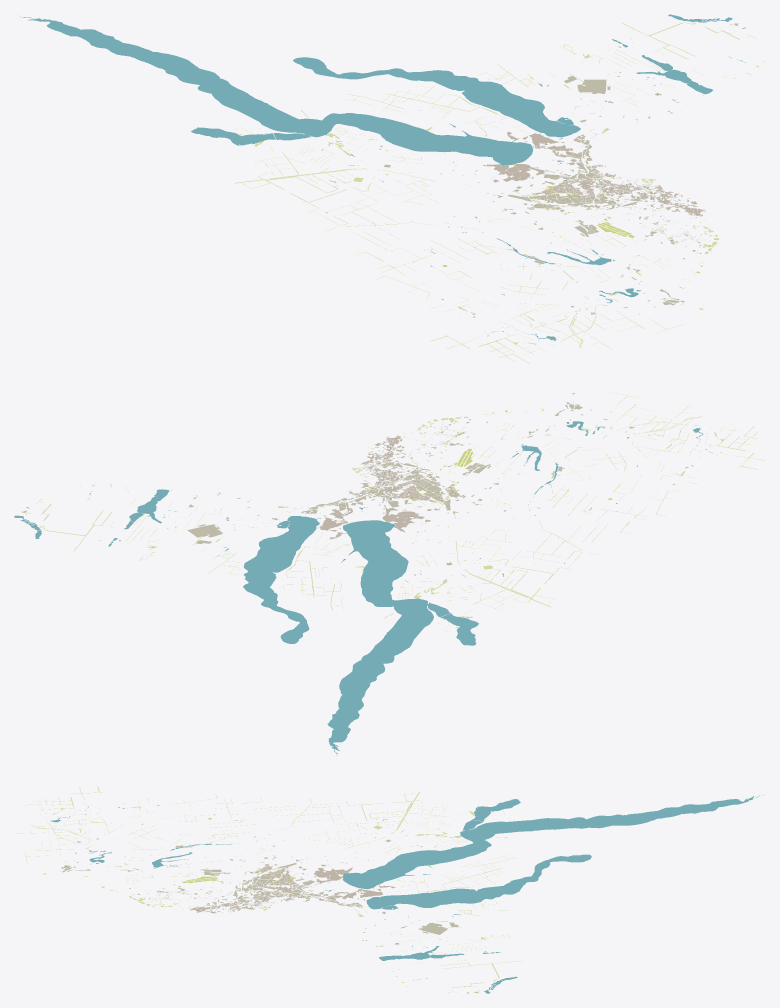
Rendered from TILE_04_00_REST_BATCH_07.glb.
3 views of the same model, one above another, from view 1: azimuth 30°, elevation 25°; view 2: azimuth 150°, elevation 25°; view 3: azimuth 270°, elevation 25° (orthographic). The views are drawn at different scales.
Visible parts, largest first — view 1: WEB_water, WEB_natural_wo, WEB_landuse_i0, WEB_landuse_r0, WEB_landuse_g0; view 2: WEB_water, WEB_natural_wo, WEB_landuse_i0, WEB_landuse_r0; view 3: WEB_water, WEB_natural_wo, WEB_landuse_i0, WEB_landuse_r0.
Part boxes in pixels (x1,y1,x2,y2): WEB_water: (20, 14, 750, 344); WEB_natural_wo: (234, 22, 765, 363); WEB_landuse_i0: (379, 24, 745, 340); WEB_landuse_r0: (482, 132, 705, 215); WEB_landuse_g0: (442, 65, 758, 309); WEB_water: (14, 419, 720, 756); WEB_natural_wo: (21, 392, 765, 631); WEB_landuse_i0: (23, 402, 707, 575); WEB_landuse_r0: (319, 435, 473, 539); WEB_water: (50, 794, 764, 993); WEB_natural_wo: (15, 786, 523, 993); WEB_landuse_i0: (57, 805, 486, 993); WEB_landuse_r0: (190, 861, 395, 913).
Bounding box in the file's own units: 653 × 0.0131 × 998.
